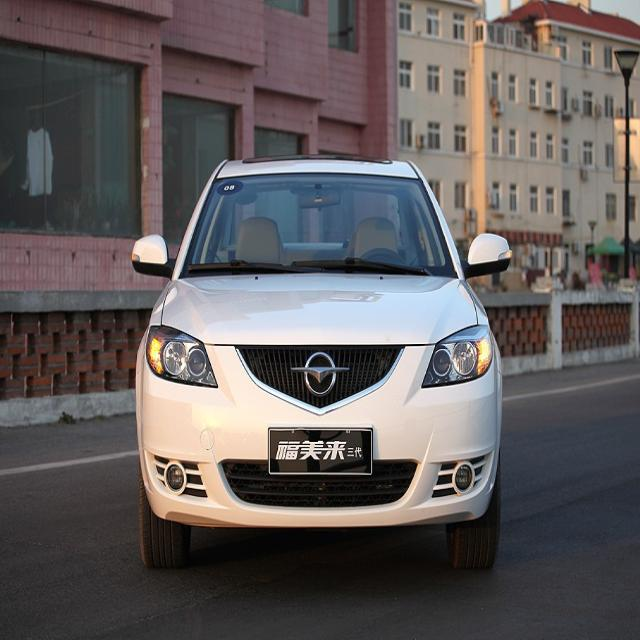front_bumper: (134, 342, 502, 527)
front_glass: (184, 174, 449, 276)
front_left_side_light: (419, 322, 494, 390)
front_left_side_mirror: (461, 232, 512, 278)
front_right_side_light: (145, 322, 219, 390)
front_right_side_mirror: (130, 232, 173, 280)
